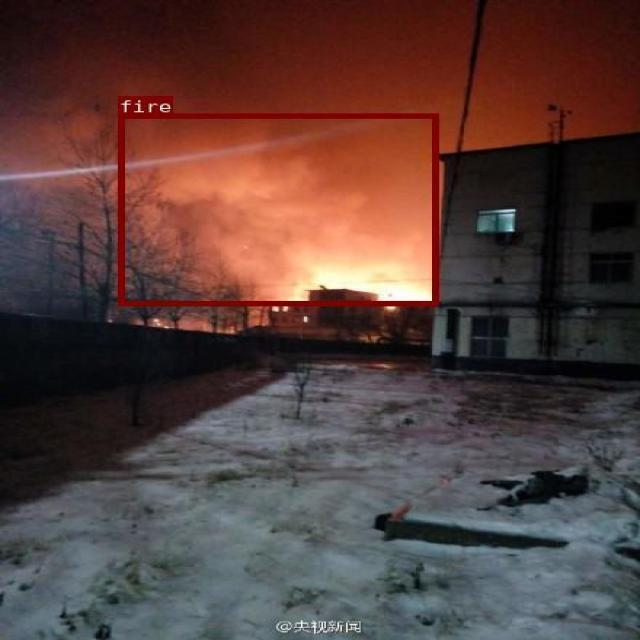fire: (118, 114, 437, 305)
